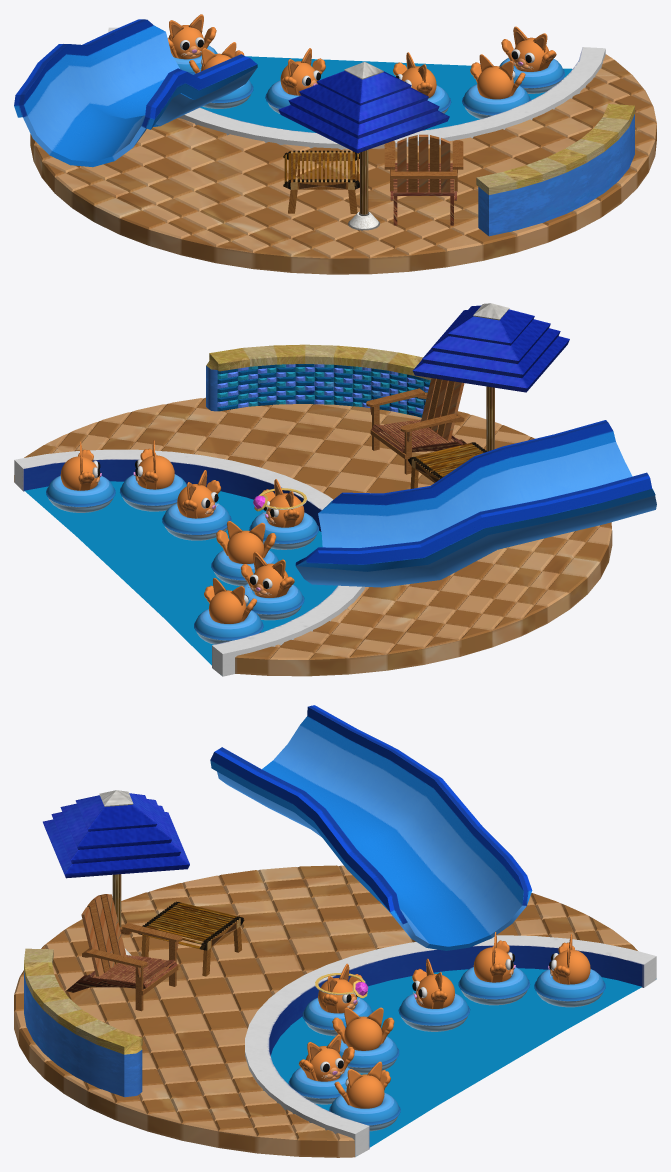
3 renders of one model, top to bottom at view 1: azimuth 30°, elevation 25°; view 2: azimuth 150°, elevation 25°; view 3: azimuth 270°, elevation 25°, orthographic. The views are drawn at different scales.
Visible parts, largest first — view 1: Floor, Slide, Wall, Umbrella, Poolside, Water, Chair, Table_low, Cat004, Cat003, Cat005, Cat002 (+6 smaller); view 2: Floor, Slide, Water, Wall, Poolside, Umbrella, Chair, Table_low, RubberRing_low003, RubberRing_low001, Cat002, Cat006 (+10 smaller); view 3: Floor, Slide, Water, Poolside, Umbrella, Wall, Chair, Table_low, Cat001, RubberRing_low005, RubberRing_low006, RubberRing_low002 (+10 smaller).
Boxes of the visible parts, x1=… form: Floor: x1=30, y1=54, x2=656, y2=274; Slide: x1=14, y1=19, x2=257, y2=167; Wall: x1=476, y1=103, x2=634, y2=236; Umbrella: x1=278, y1=62, x2=449, y2=230; Poolside: x1=108, y1=27, x2=605, y2=149; Water: x1=200, y1=56, x2=572, y2=132; Chair: x1=384, y1=134, x2=463, y2=225; Table_low: x1=283, y1=150, x2=359, y2=213; Cat004: x1=470, y1=54, x2=525, y2=99; Cat003: x1=501, y1=26, x2=556, y2=71; Cat005: x1=167, y1=14, x2=216, y2=59; Cat002: x1=280, y1=48, x2=325, y2=95; Floor: x1=14, y1=397, x2=612, y2=676; Slide: x1=295, y1=420, x2=656, y2=587; Water: x1=24, y1=481, x2=337, y2=665; Wall: x1=206, y1=344, x2=431, y2=417; Poolside: x1=14, y1=449, x2=365, y2=676; Umbrella: x1=412, y1=303, x2=569, y2=451; Chair: x1=366, y1=378, x2=466, y2=474; Table_low: x1=408, y1=442, x2=486, y2=488; RubberRing_low003: x1=46, y1=475, x2=115, y2=512; RubberRing_low001: x1=162, y1=502, x2=231, y2=540; Cat002: x1=216, y1=521, x2=276, y2=563; Cat006: x1=240, y1=551, x2=294, y2=597; Floor: x1=14, y1=865, x2=637, y2=1157; Slide: x1=210, y1=705, x2=532, y2=950; Water: x1=270, y1=968, x2=641, y2=1147; Poolside: x1=245, y1=935, x2=656, y2=1157; Umbrella: x1=43, y1=790, x2=189, y2=955; Wall: x1=24, y1=948, x2=142, y2=1097; Chair: x1=66, y1=894, x2=182, y2=1011; Table_low: x1=138, y1=901, x2=244, y2=976; Cat001: x1=332, y1=1007, x2=394, y2=1050; RubberRing_low005: x1=534, y1=969, x2=605, y2=1007; RubberRing_low006: x1=458, y1=967, x2=530, y2=1005; RubberRing_low002: x1=398, y1=992, x2=470, y2=1031.
Size of the model in its own units: 3.44 by 0.9663 by 3.02.
Materials: 8 (8 with a texture image).
